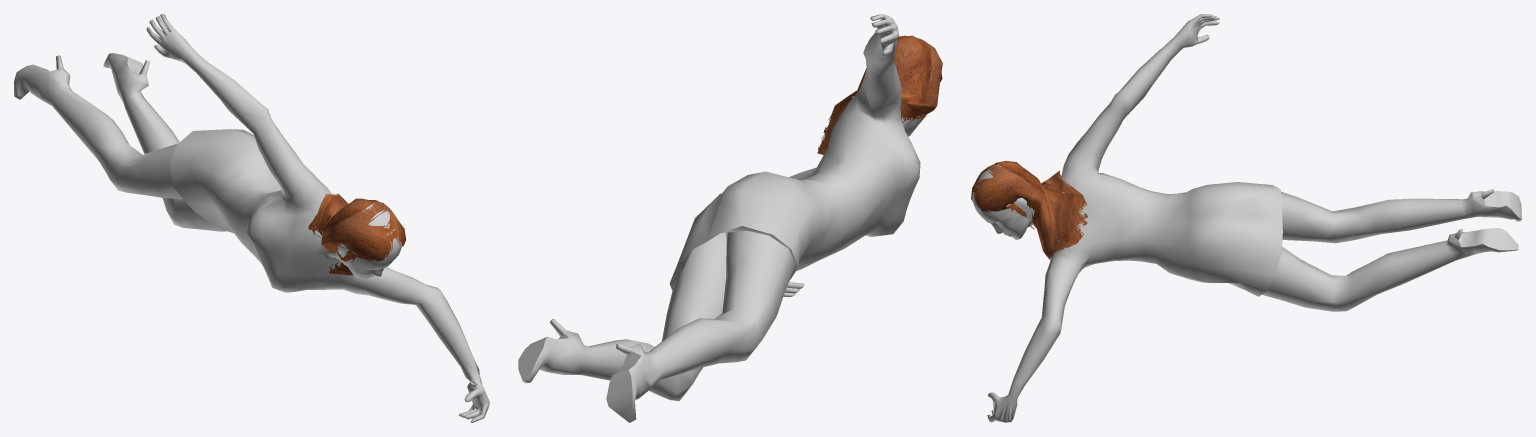
Rendered from female1.obj.
The picture shows the model from 3 angles, left to right: view 1: azimuth 30°, elevation 25°; view 2: azimuth 150°, elevation 25°; view 3: azimuth 270°, elevation 25°; orthographic projection. The views are drawn at different scales.
Parts seen in each view (by area): view 1: casual06_f_mediumpoly; view 2: casual06_f_mediumpoly; view 3: casual06_f_mediumpoly.
Part boxes in pixels (x1,y1,x2,y2): casual06_f_mediumpoly: [14, 14, 489, 422]; casual06_f_mediumpoly: [518, 14, 942, 422]; casual06_f_mediumpoly: [971, 14, 1521, 422].
Size of the model in its own units: 70.07 by 109 by 169.
